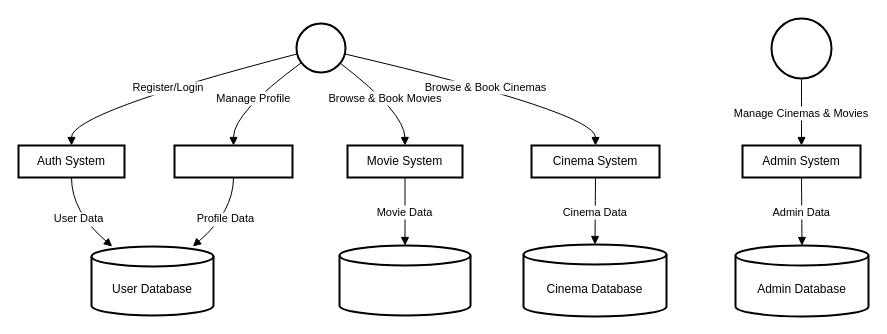
This 887x334 diagram has some shape labels left out. Here are the shapes that lost their labels. From the top down, the centre of each, then its label:
At [320,47]: "User".
At [801,48]: "Admin".
At [233,161]: "Profile System".
At [404,280]: "Movie Database".
